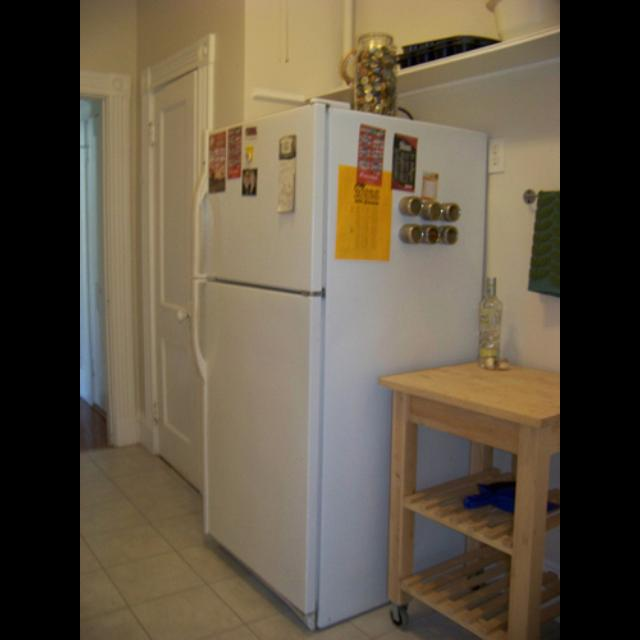Refrigerator: (204, 110, 492, 618)
